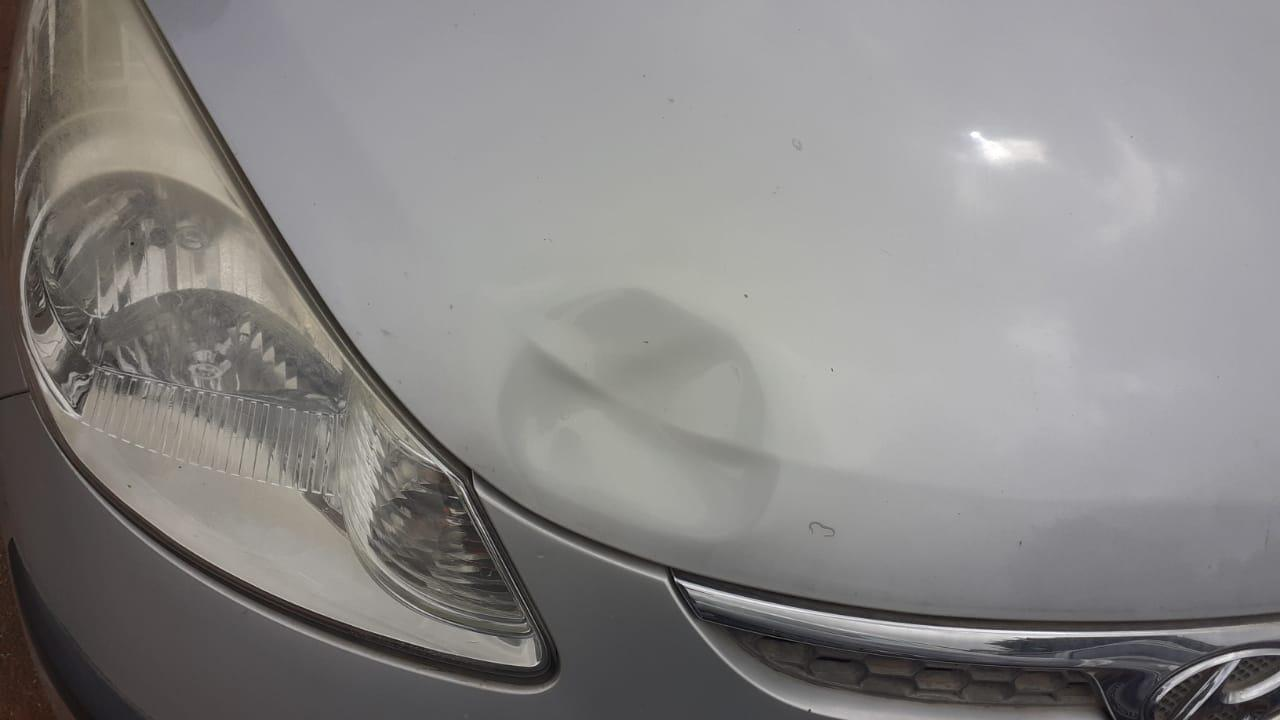bonnet-dent: (258, 0, 1274, 625)
